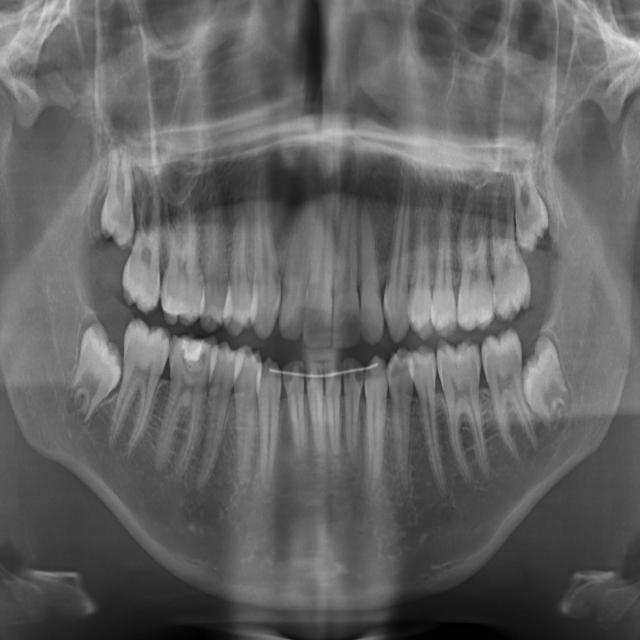CompositeResinRestoration: (160, 270, 188, 328), (179, 322, 201, 367)
DentalCaries: (191, 341, 214, 376)
